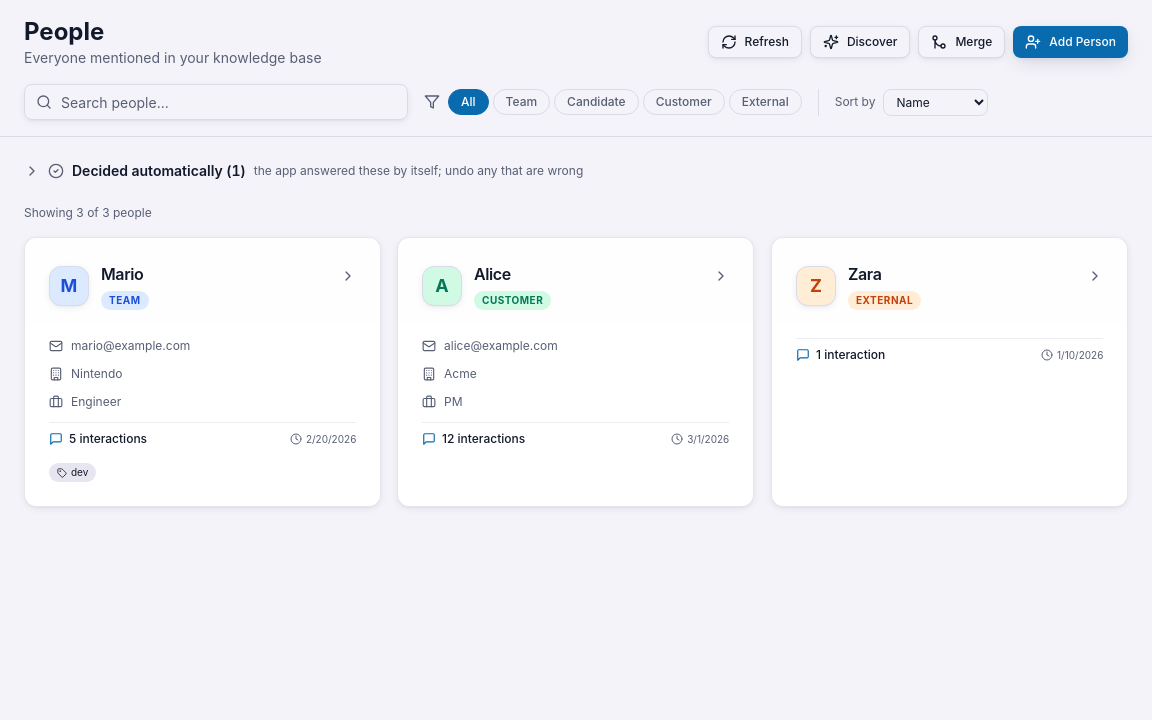
Test: People Page › opens the Add Person dialog from the header button
The width and height of the screenshot is (1152, 720).
Expected: the heading "Mario" is shown, [101,262,148,286]
What coordinates should you click on to do the following:
click the button "Add Person"
I would click on:
 (1071, 42)
Its box is [1013,26,1128,58].
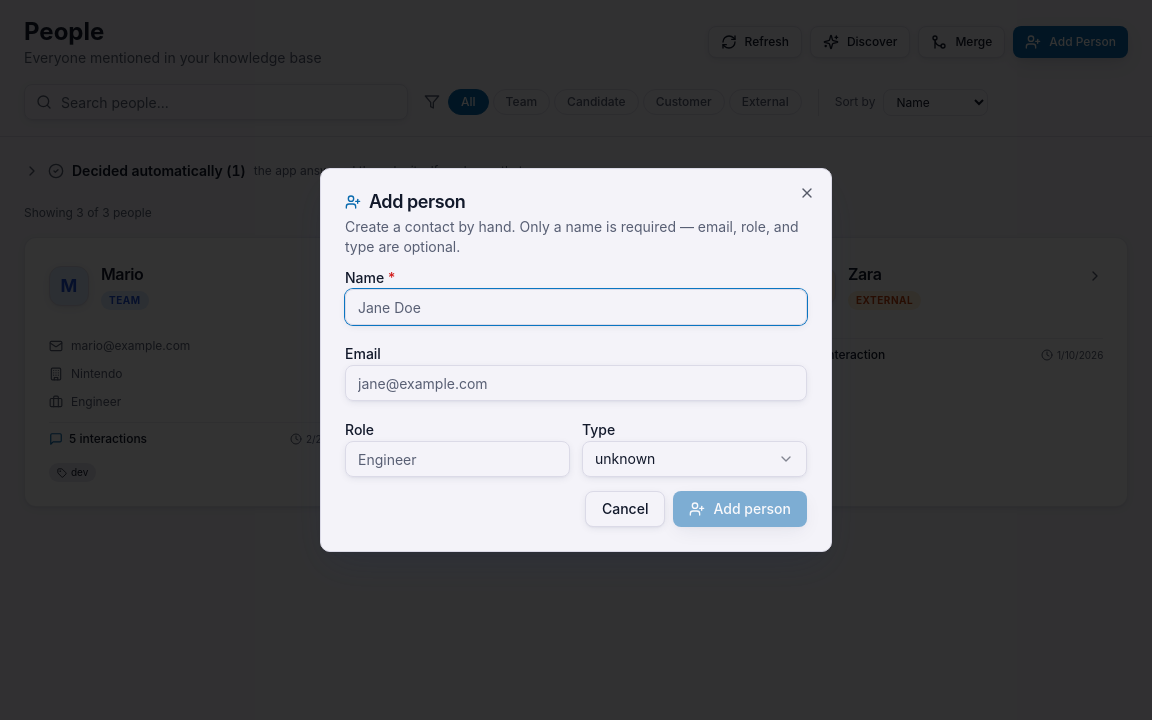
Result: the text "Create a contact by hand" is shown at [345,218,799,255]
Result: the field labelled "Name *" is shown at [345,289,807,325]
